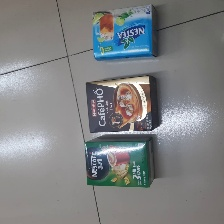CF pho: (85, 74, 161, 133)
Nes Rang: (83, 135, 157, 189)
Nestea: (90, 3, 159, 61)
